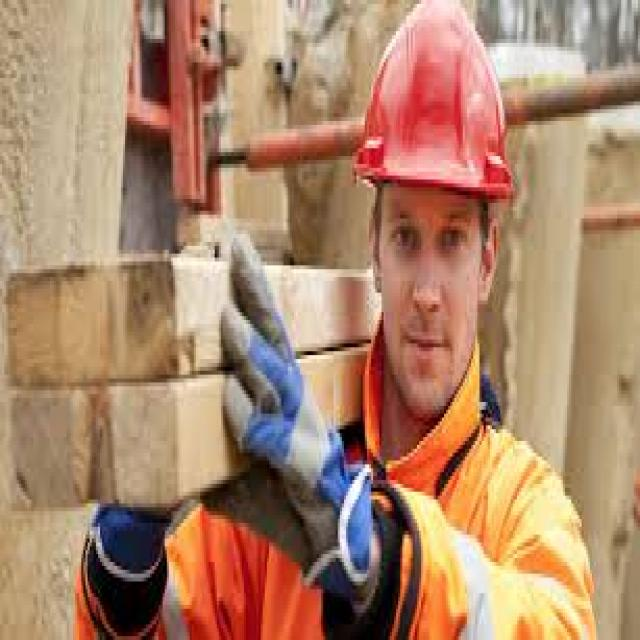Reflective-Jacket: (355, 386, 594, 640)
Safety-Helmet: (348, 4, 523, 218)
